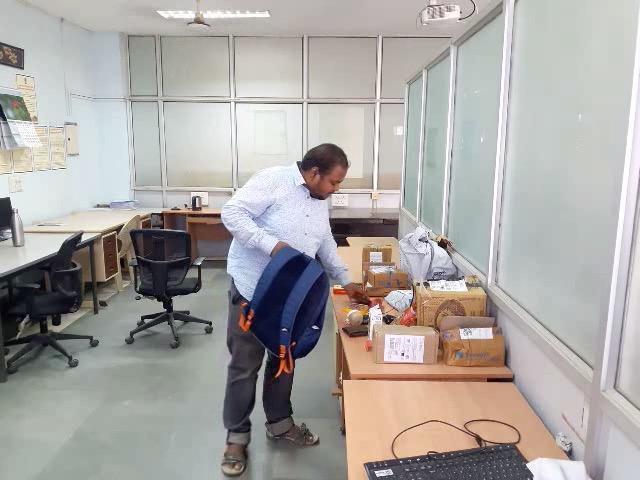shoplifting: (186, 232, 408, 398)
